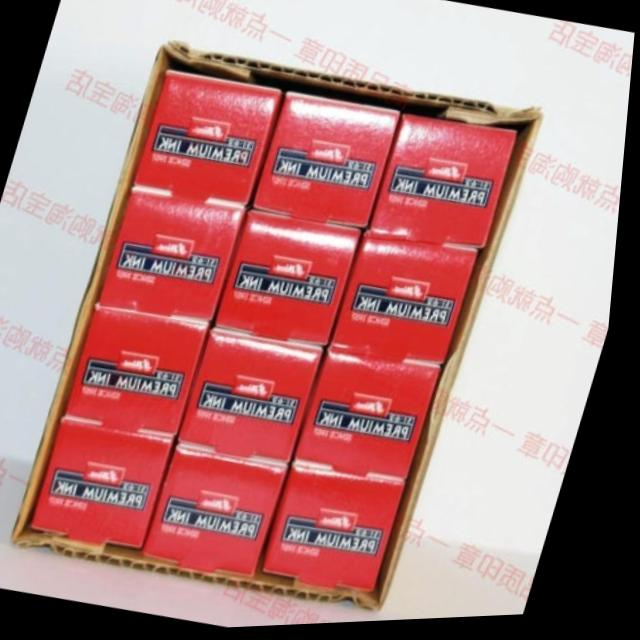box: (185, 324, 333, 468), (220, 210, 371, 349), (257, 93, 407, 230), (103, 188, 250, 326), (137, 72, 284, 209), (149, 446, 297, 580), (302, 351, 449, 485), (371, 118, 519, 251), (39, 419, 182, 551), (72, 307, 216, 438), (272, 466, 416, 596), (338, 240, 483, 367)
